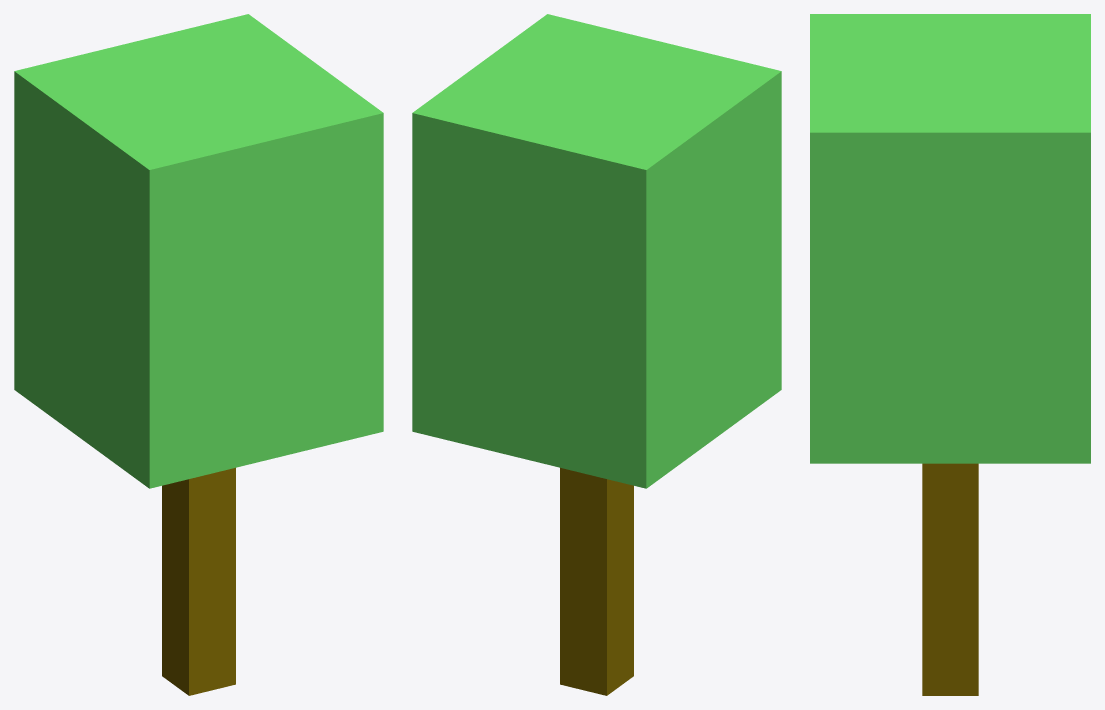
File: Pizza_Bet_002.dae
The picture shows the model from 3 angles, left to right: view 1: azimuth 30°, elevation 25°; view 2: azimuth 150°, elevation 25°; view 3: azimuth 270°, elevation 25°; orthographic projection. The views are drawn at different scales.
Parts seen in each view (by area): view 1: pizza_men_22; view 2: pizza_men_22; view 3: pizza_men_22.
Part boxes in pixels (x1,y1,x2,y2): pizza_men_22: (14, 14, 383, 695); pizza_men_22: (412, 14, 781, 695); pizza_men_22: (810, 14, 1090, 695).
Bounding box in the file's own units: 10 × 24 × 10.
